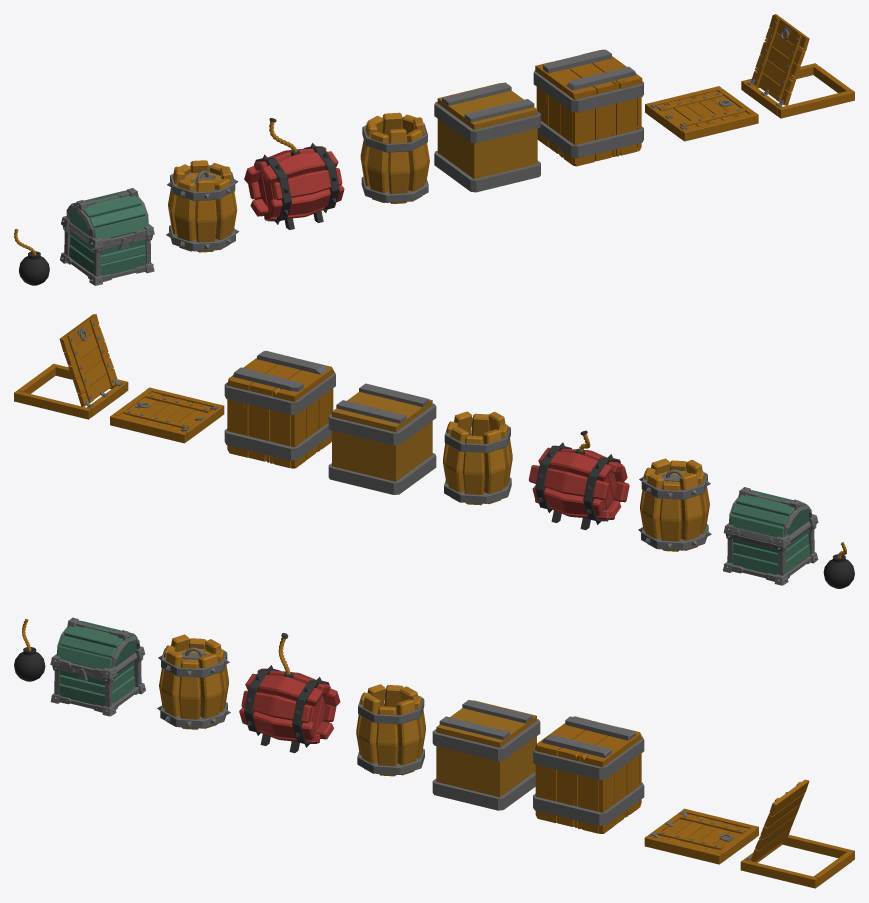
File: entrega_um_giovani.fbx
3 views of the same model, one above another, from view 1: azimuth 30°, elevation 25°; view 2: azimuth 150°, elevation 25°; view 3: azimuth 330°, elevation 25° (orthographic).
Visible parts, largest first — view 1: caixa, caixa_para_textura, bau, barril_explosivo, barril, barril_vazio, alcapao_aberto_teste, alcapao, bomba; view 2: caixa, caixa_para_textura, bau, barril_explosivo, barril, barril_vazio, alcapao_aberto_teste, alcapao, bomba; view 3: caixa, caixa_para_textura, bau, barril_explosivo, barril, barril_vazio, alcapao_aberto_teste, alcapao, bomba.
Part boxes in pixels (bbox=[...]): caixa: bbox=[533, 49, 643, 166]; caixa_para_textura: bbox=[434, 82, 540, 192]; bau: bbox=[60, 188, 154, 285]; barril_explosivo: bbox=[244, 118, 344, 229]; barril: bbox=[166, 160, 239, 252]; barril_vazio: bbox=[360, 112, 429, 203]; alcapao_aberto_teste: bbox=[741, 14, 854, 118]; alcapao: bbox=[645, 86, 758, 141]; bomba: bbox=[19, 251, 49, 285]; caixa: bbox=[224, 350, 335, 468]; caixa_para_textura: bbox=[328, 383, 436, 494]; bau: bbox=[723, 487, 818, 585]; barril_explosivo: bbox=[528, 430, 629, 530]; barril: bbox=[638, 458, 711, 551]; barril_vazio: bbox=[443, 411, 512, 505]; alcapao_aberto_teste: bbox=[14, 314, 128, 419]; alcapao: bbox=[110, 387, 224, 443]; bomba: bbox=[823, 554, 854, 588]; caixa: bbox=[533, 716, 644, 833]; caixa_para_textura: bbox=[432, 700, 540, 810]; bau: bbox=[50, 617, 145, 716]; barril_explosivo: bbox=[239, 633, 340, 753]; barril: bbox=[157, 634, 230, 729]; barril_vazio: bbox=[356, 684, 425, 776]; alcapao_aberto_teste: bbox=[740, 779, 854, 888]; alcapao: bbox=[644, 808, 758, 864]; bomba: bbox=[14, 647, 45, 681].
Size of the model in its own units: 1056 by 125 by 96.68.
